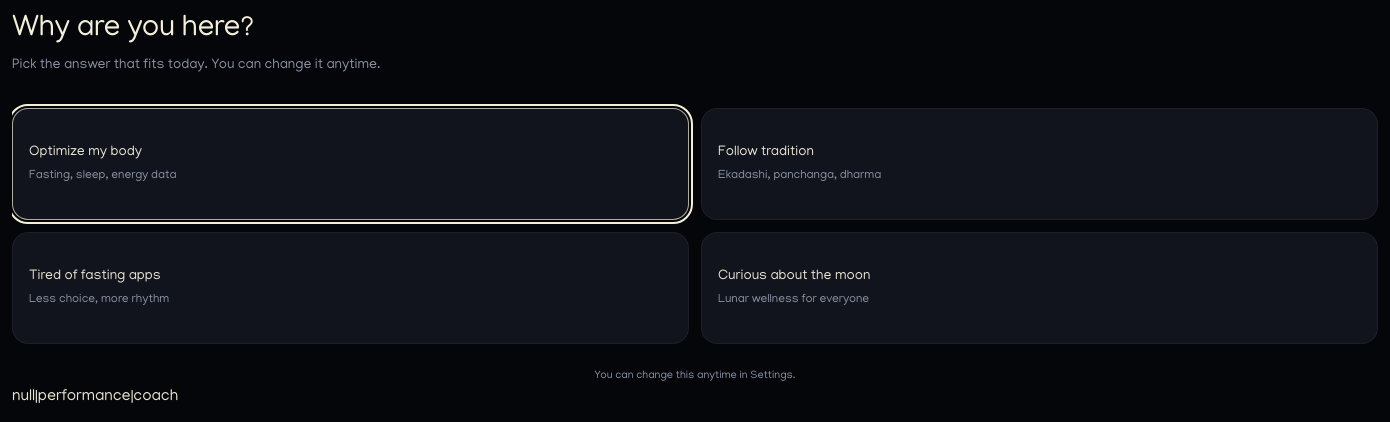
Scenario: IntentRouter › persists tradition → devotional + traditional
Click the radio button labelled "Follow tradition Ekadashi, panchanga, dharma": (766, 152) [701,108,1378,220]
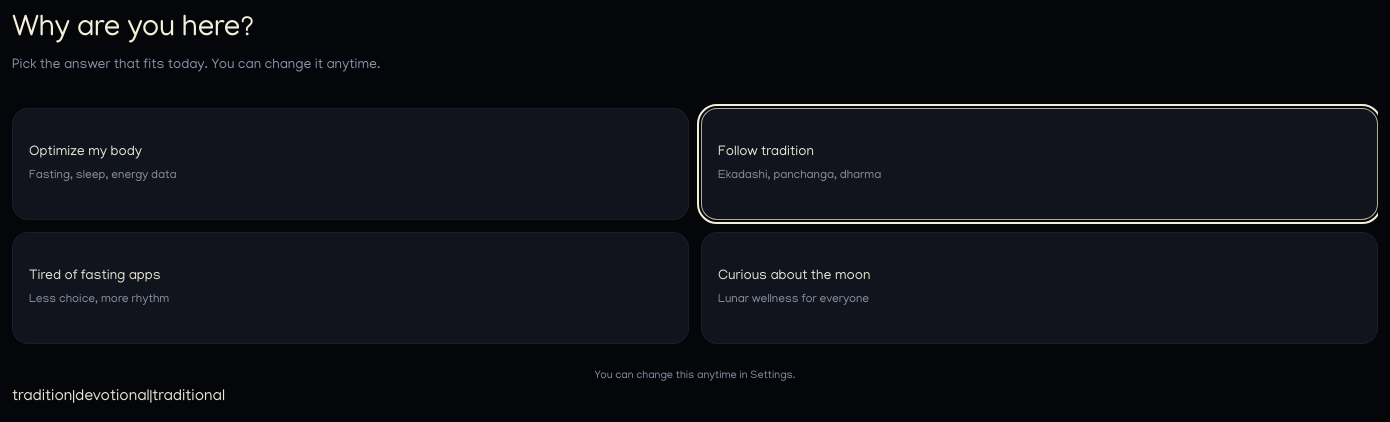
Expected: the text with test id "prefs" reads "tradition|devotional|traditional", [12,388,225,406]
